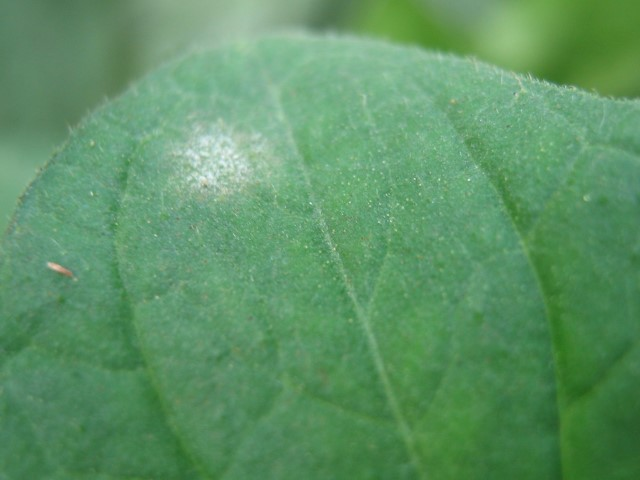oidio: (173, 126, 256, 203)
